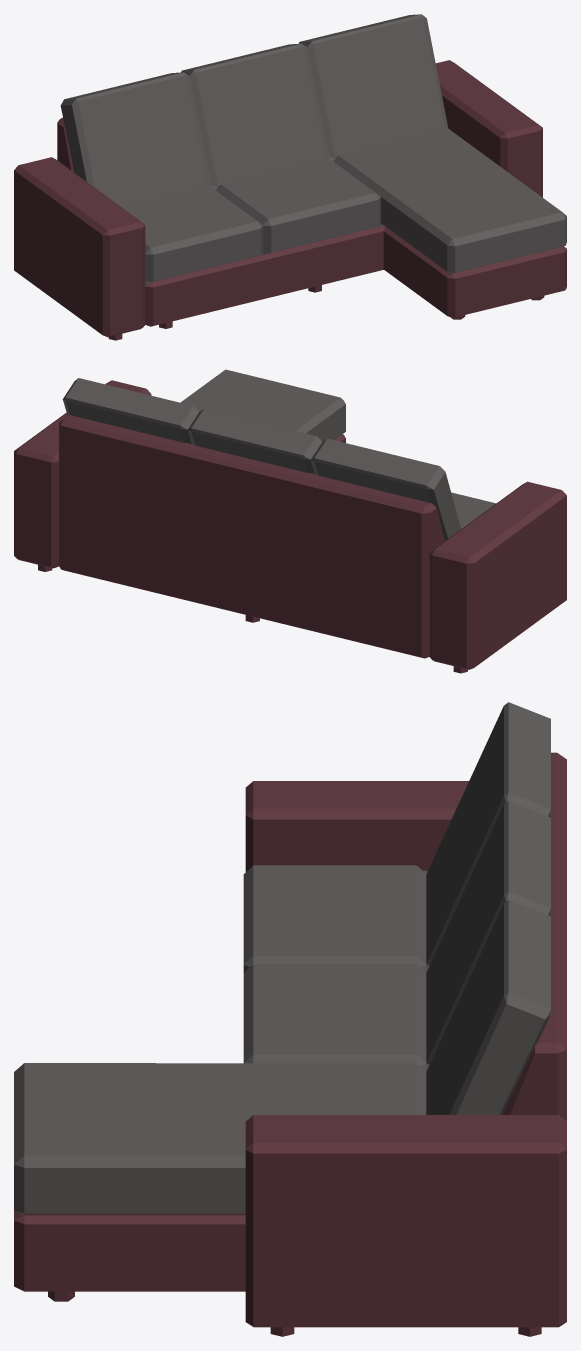
The model's file is sofa-modern-long.fbx.
3 views of the same model, one above another, from view 1: azimuth 30°, elevation 25°; view 2: azimuth 150°, elevation 25°; view 3: azimuth 270°, elevation 25° (orthographic). The views are drawn at different scales.
Visible parts, largest first — view 1: sofa-modern-long; view 2: sofa-modern-long; view 3: sofa-modern-long.
Part boxes in pixels (x1=…): sofa-modern-long: x1=14, y1=14, x2=566, y2=340; sofa-modern-long: x1=14, y1=369, x2=566, y2=673; sofa-modern-long: x1=14, y1=702, x2=566, y2=1336.
Bounding box in the file's own units: 2.58 × 1.03 × 1.63.
